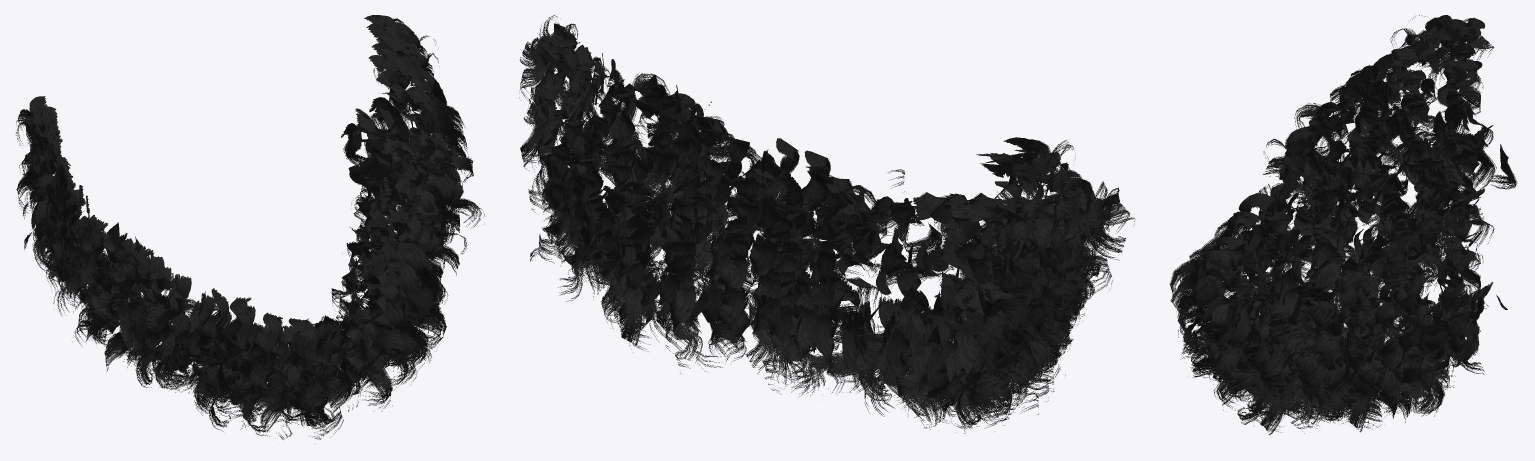
File: Arab_beard_p2.fbx
3 renders of one model, left to right at view 1: azimuth 30°, elevation 25°; view 2: azimuth 150°, elevation 25°; view 3: azimuth 270°, elevation 25°, orthographic. The views are drawn at different scales.
Visible parts, largest first — view 1: Haoir_Mesh1; view 2: Haoir_Mesh1; view 3: Haoir_Mesh1.
Part boxes in pixels (x1=…): Haoir_Mesh1: x1=16, y1=15, x2=485, y2=443; Haoir_Mesh1: x1=519, y1=15, x2=1135, y2=433; Haoir_Mesh1: x1=1169, y1=15, x2=1517, y2=435.
Size of the model in its own units: 164 by 118 by 120.
